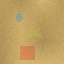person: (15, 12, 22, 21)
structure: (22, 25, 42, 36)
vehicle: (19, 46, 34, 60)
